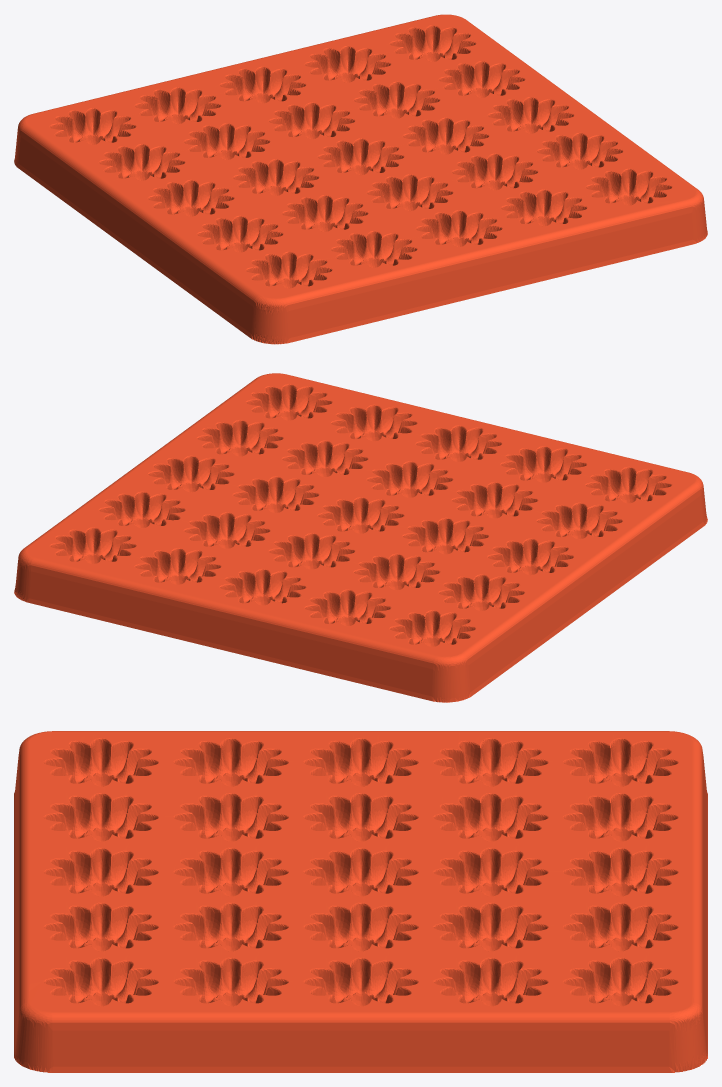
File: mold.glb
3 views of the same model, one above another, from view 1: azimuth 30°, elevation 25°; view 2: azimuth 150°, elevation 25°; view 3: azimuth 270°, elevation 25° (orthographic). The views are drawn at different scales.
Parts seen in each view (by area): view 1: geometry_0; view 2: geometry_0; view 3: geometry_0.
Boxes of the visible parts, box(x1,y1,x2,y2) form: geometry_0: box(14, 14, 707, 344); geometry_0: box(14, 373, 707, 702); geometry_0: box(14, 731, 707, 1072).
Size of the model in its own units: 0.1584 by 0.0136 by 0.1584.
